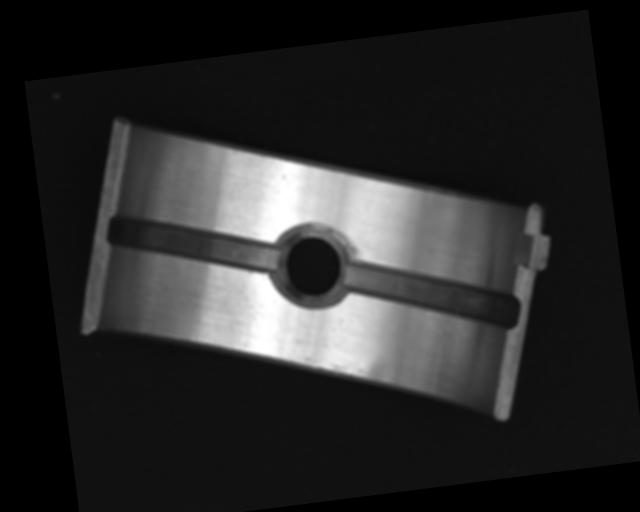gap: (343, 241, 516, 346), (103, 196, 278, 292)
hole: (266, 217, 357, 314)
